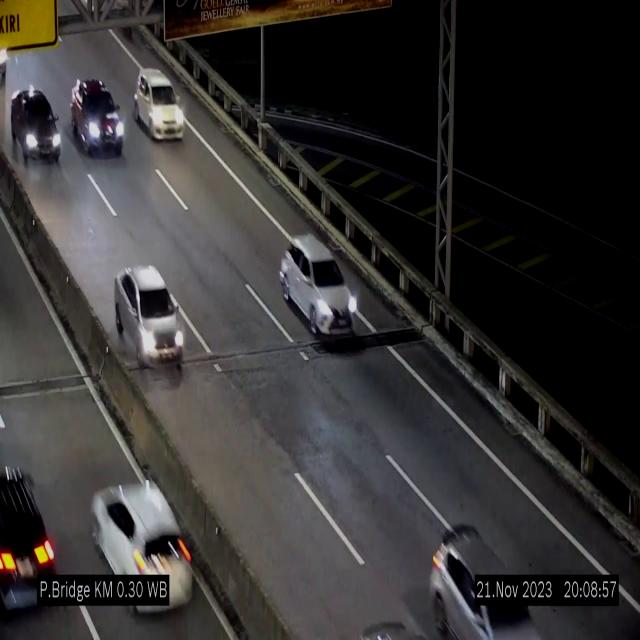Car: (91, 467, 195, 623), (427, 507, 545, 640), (0, 446, 74, 619), (280, 235, 356, 336), (115, 266, 184, 370), (6, 84, 68, 164), (68, 75, 126, 160), (133, 69, 185, 140)
